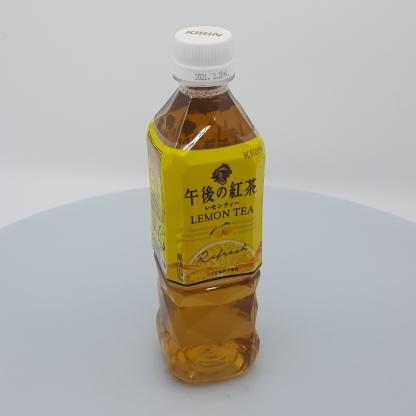--------------500ml: (146, 26, 266, 385)
